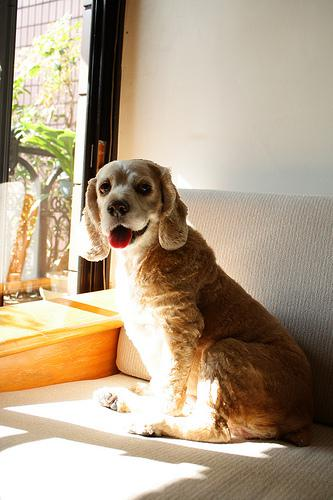dog-english_cocker_spaniel: (74, 157, 187, 261)
